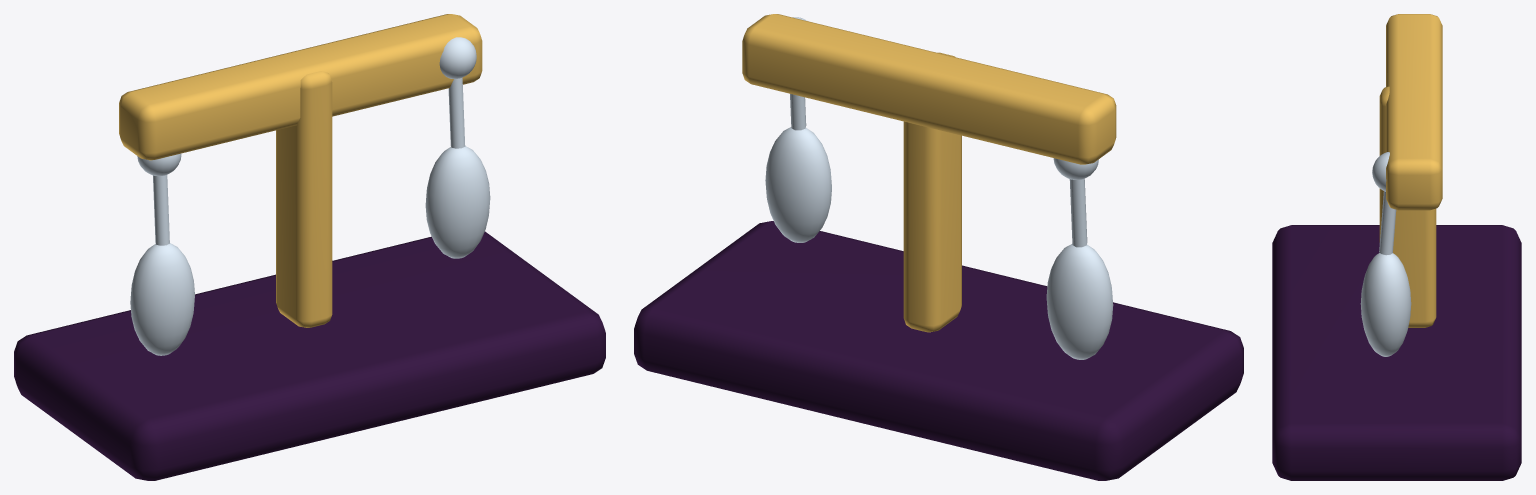
The model's file is rain.acc.silver-drops.glb.
3 views of the same model, side by side, from view 1: azimuth 30°, elevation 25°; view 2: azimuth 150°, elevation 25°; view 3: azimuth 270°, elevation 25° (orthographic). The views are drawn at different scales.
Parts seen in each view (by area): view 1: jewellery_pad, jewellery_crossbar, jewellery_support, Fit.Item.silver-drops.Drop1, Fit.Item.silver-drops.Drop0, Fit.Item.silver-drops.Stud0, Fit.Item.silver-drops.Chain1, Fit.Item.silver-drops.Chain0, Fit.Item.silver-drops.Stud1; view 2: jewellery_pad, jewellery_crossbar, jewellery_support, Fit.Item.silver-drops.Drop1, Fit.Item.silver-drops.Drop0, Fit.Item.silver-drops.Chain1, Fit.Item.silver-drops.Stud1; view 3: jewellery_pad, jewellery_crossbar, jewellery_support, Fit.Item.silver-drops.Drop0, Fit.Item.silver-drops.Chain0, Fit.Item.silver-drops.Stud0.
Part boxes in pixels (bbox=[...]): jewellery_pad: bbox=[14, 231, 605, 480]; jewellery_crossbar: bbox=[119, 14, 482, 160]; jewellery_support: bbox=[276, 71, 332, 327]; Fit.Item.silver-drops.Drop1: bbox=[130, 243, 194, 355]; Fit.Item.silver-drops.Drop0: bbox=[425, 146, 490, 258]; Fit.Item.silver-drops.Stud0: bbox=[439, 37, 476, 78]; Fit.Item.silver-drops.Chain1: bbox=[153, 175, 169, 245]; Fit.Item.silver-drops.Chain0: bbox=[448, 78, 465, 148]; Fit.Item.silver-drops.Stud1: bbox=[137, 153, 181, 176]; jewellery_pad: bbox=[634, 221, 1243, 480]; jewellery_crossbar: bbox=[742, 14, 1116, 164]; jewellery_support: bbox=[903, 52, 961, 332]; Fit.Item.silver-drops.Drop1: bbox=[1046, 244, 1113, 359]; Fit.Item.silver-drops.Drop0: bbox=[765, 127, 831, 242]; Fit.Item.silver-drops.Chain1: bbox=[1069, 179, 1087, 247]; Fit.Item.silver-drops.Stud1: bbox=[1053, 158, 1098, 179]; jewellery_pad: bbox=[1272, 225, 1521, 480]; jewellery_crossbar: bbox=[1386, 14, 1442, 210]; jewellery_support: bbox=[1379, 86, 1436, 327]; Fit.Item.silver-drops.Drop0: bbox=[1360, 253, 1411, 356]; Fit.Item.silver-drops.Chain0: bbox=[1379, 191, 1396, 255]; Fit.Item.silver-drops.Stud0: bbox=[1372, 152, 1389, 191].
Bounding box in the file's own units: 0.68 × 0.4386 × 0.3355.
